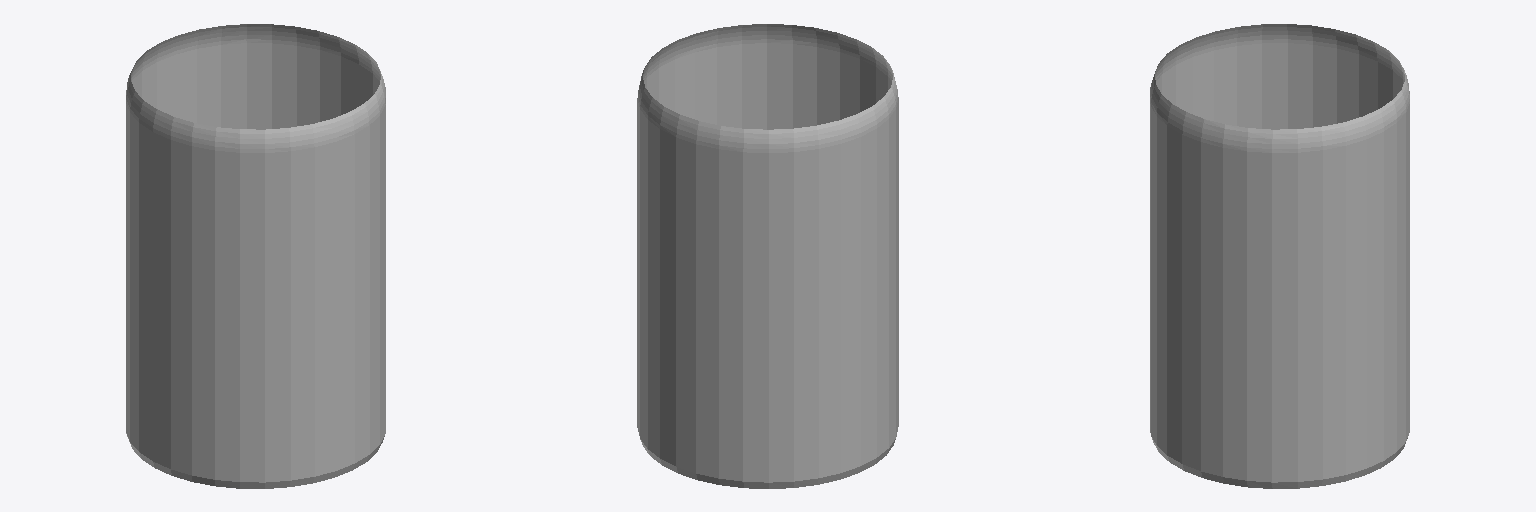
File: can_004.obj
3 renders of one model, left to right at view 1: azimuth 30°, elevation 25°; view 2: azimuth 150°, elevation 25°; view 3: azimuth 270°, elevation 25°, orthographic.
Parts seen in each view (by area): view 1: can.004; view 2: can.004; view 3: can.004.
Boxes of the visible parts, <box> form: can.004: <box>126,24,385,488</box>; can.004: <box>637,24,898,488</box>; can.004: <box>1150,24,1409,488</box>.
Bounding box in the file's own units: 4.54 × 6.89 × 4.54.